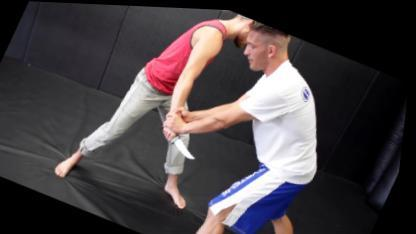knife: (152, 122, 209, 161)
